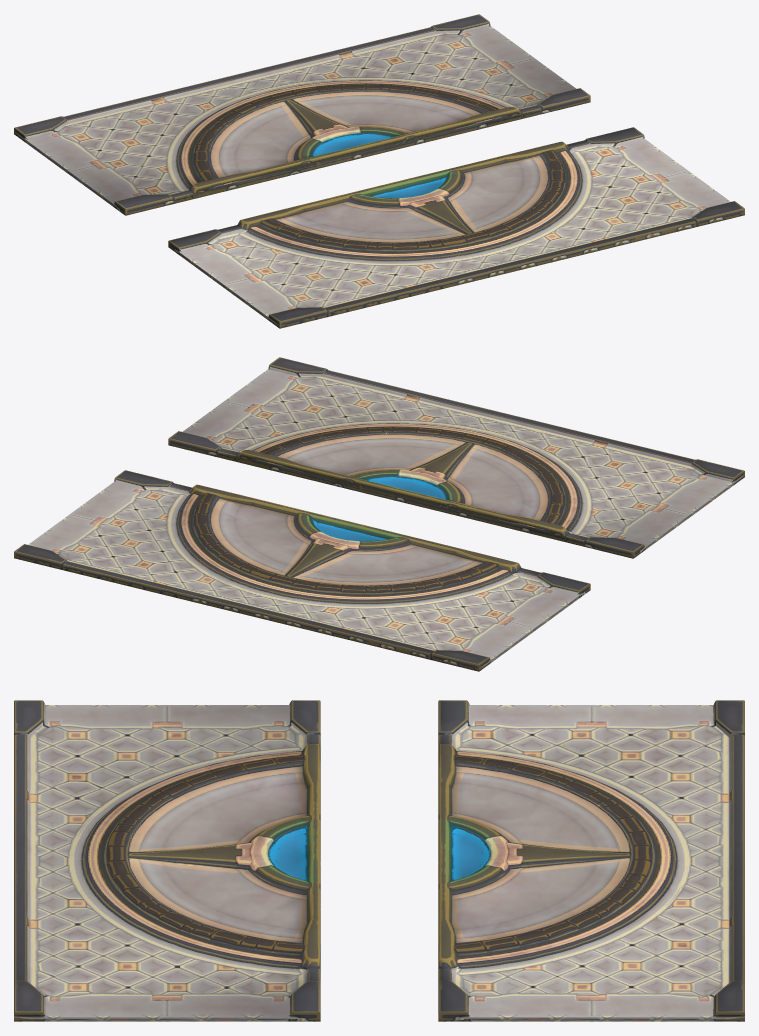
File: CombinedMeshes_SM_BridgeTop.fbx
3 views of the same model, one above another, from view 1: azimuth 30°, elevation 25°; view 2: azimuth 150°, elevation 25°; view 3: azimuth 270°, elevation 25° (orthographic). The views are drawn at different scales.
Visible parts, largest first — view 1: CombinedMeshes_SM_BridgeTop; view 2: CombinedMeshes_SM_BridgeTop; view 3: CombinedMeshes_SM_BridgeTop.
Boxes of the visible parts, x1,y1,x2,y2 form: CombinedMeshes_SM_BridgeTop: (14, 14, 744, 328); CombinedMeshes_SM_BridgeTop: (14, 357, 744, 671); CombinedMeshes_SM_BridgeTop: (14, 700, 744, 1021).
Bounding box in the file's own units: 2048 × 43.71 × 2027.
